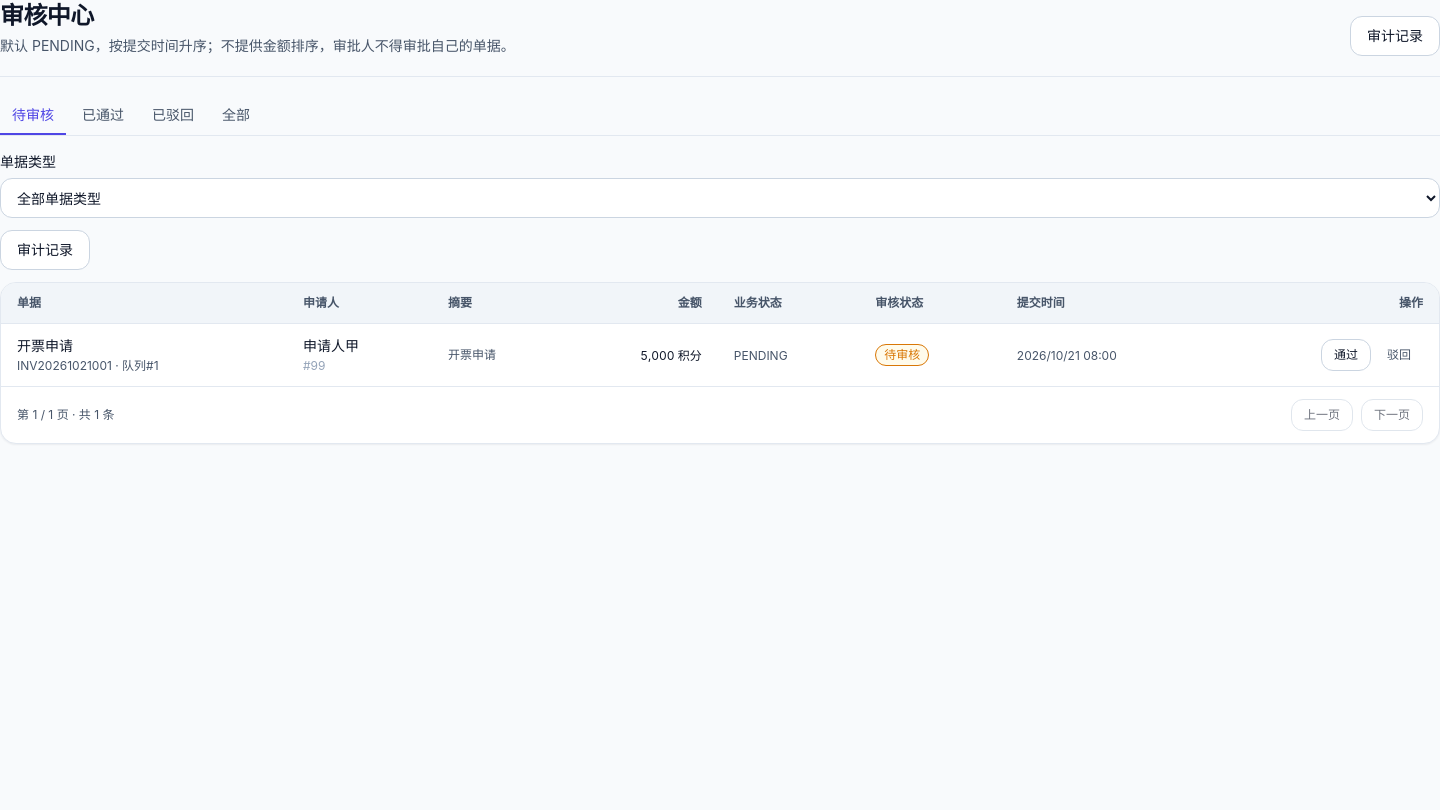
Test case: ReviewsPage › ReviewsPage：发票审批要求 invoice_url
Expected: the text "申请人甲" is shown, [303,337,359,354]
Click the button "通过" at (1346, 355), box [1321,339,1371,371]
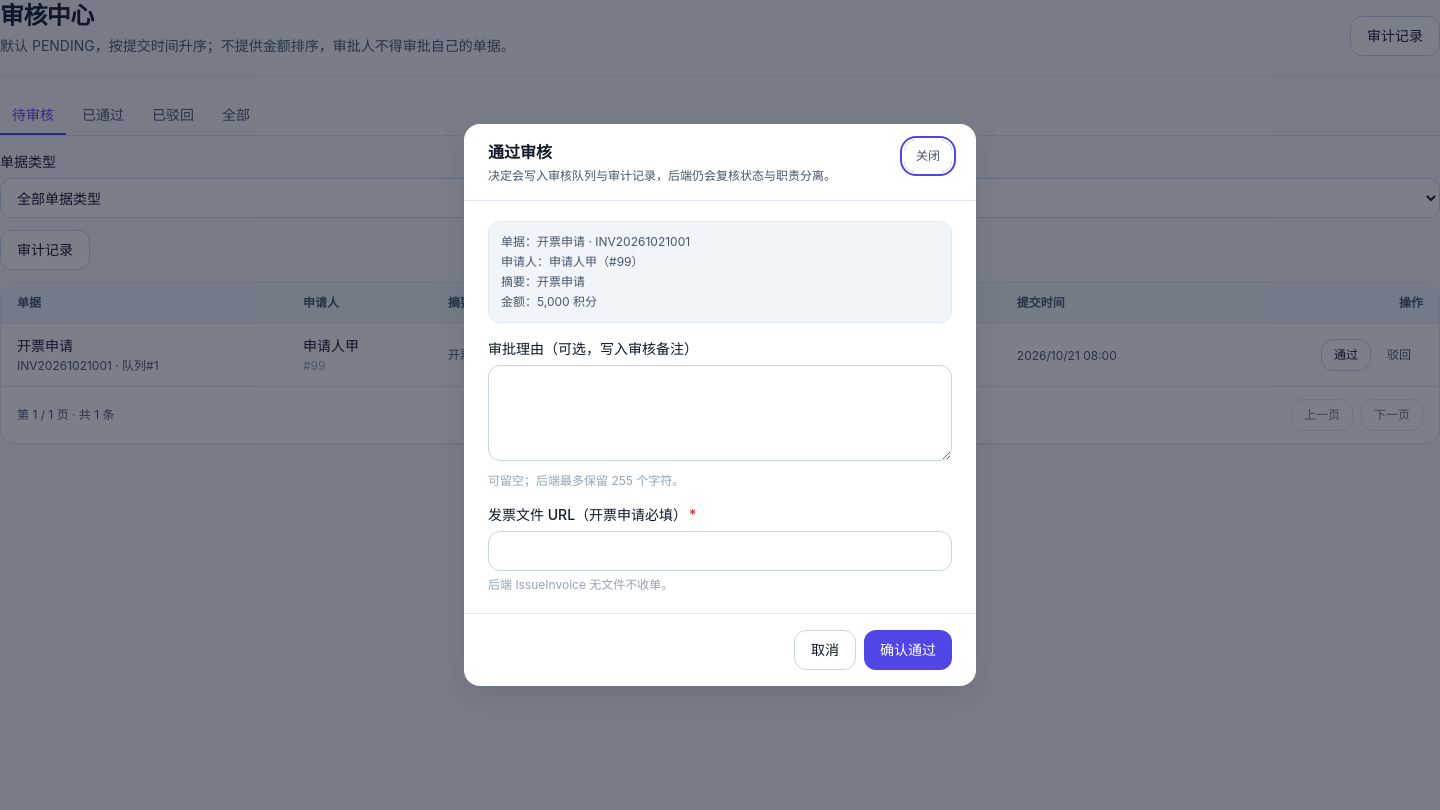
Result: the field labelled "发票文件 URL（开票申请必填）*" is shown at [488,531,952,571]
Click the button "确认通过" at (908, 650), box [864,630,952,670]
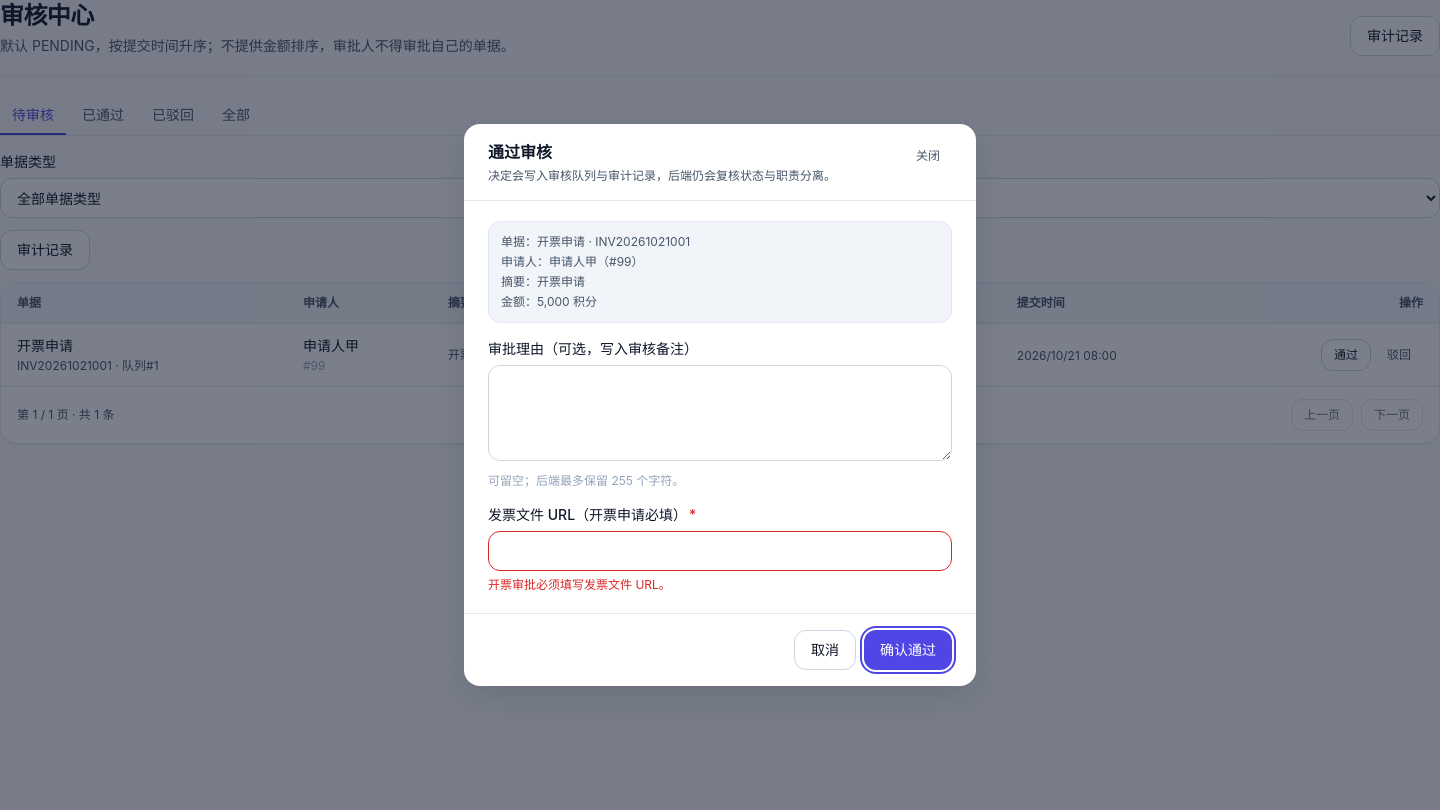
Result: the text "开票审批必须填写发票文件 URL。" is shown at [488,577,671,592]
